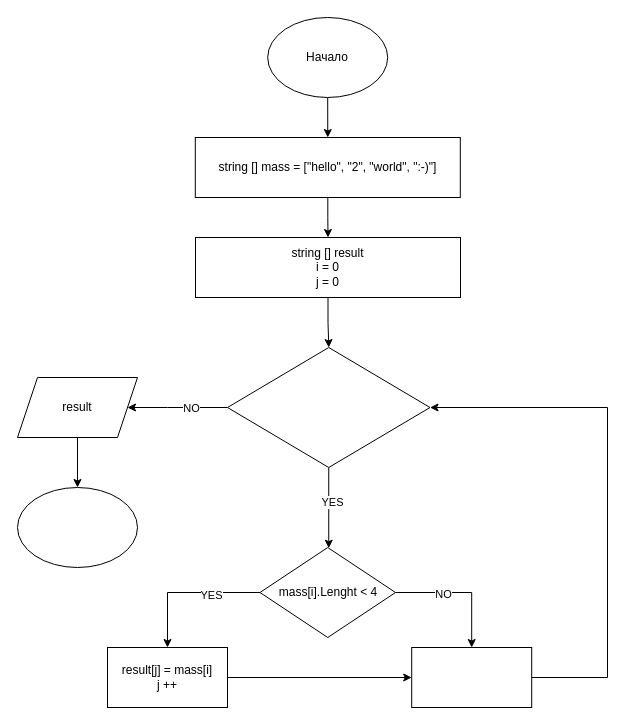
This 633x725 diagram has some shape labels left out. The shapes that lost their labels are listed below. From the top down, each one's box as (x1, y1, x2, y2) in pixels, then its label:
(226, 346, 430, 468): i < mass.Lenght
(16, 486, 138, 568): Конец
(411, 646, 532, 708): i ++
